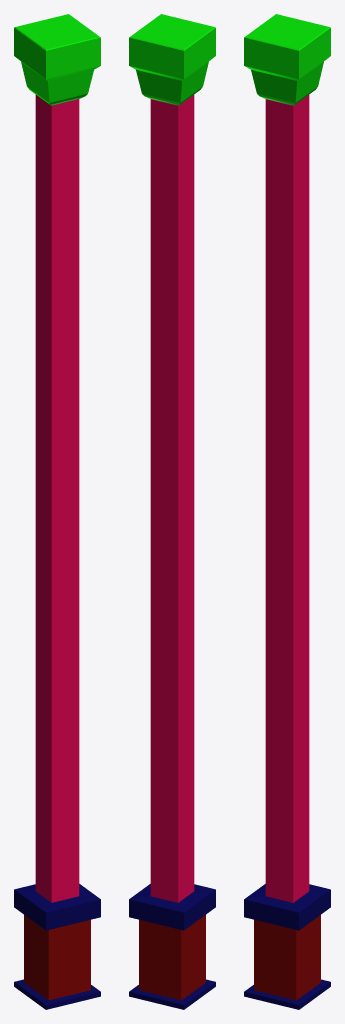
File: PillarLongerV2.fbx
The picture shows the model from 3 angles, left to right: view 1: azimuth 30°, elevation 25°; view 2: azimuth 150°, elevation 25°; view 3: azimuth 330°, elevation 25°; orthographic projection.
Parts seen in each view (by area): view 1: Column; view 2: Column; view 3: Column.
Boxes of the visible parts, left/top/right/bottom form: Column: left=14, top=14, right=100, bottom=1009; Column: left=129, top=14, right=215, bottom=1009; Column: left=244, top=14, right=330, bottom=1009.
Bounding box in the file's own units: 10 × 167 × 10.
